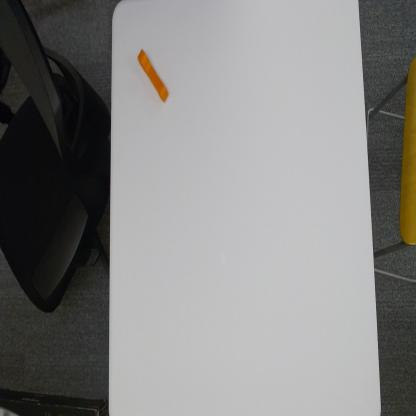Screwdriver: (136, 44, 170, 106)
